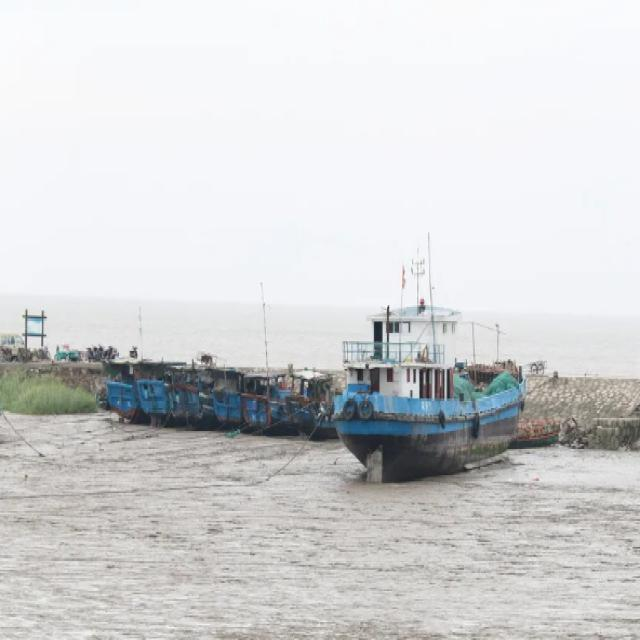fishing boat: (334, 265, 533, 481)
